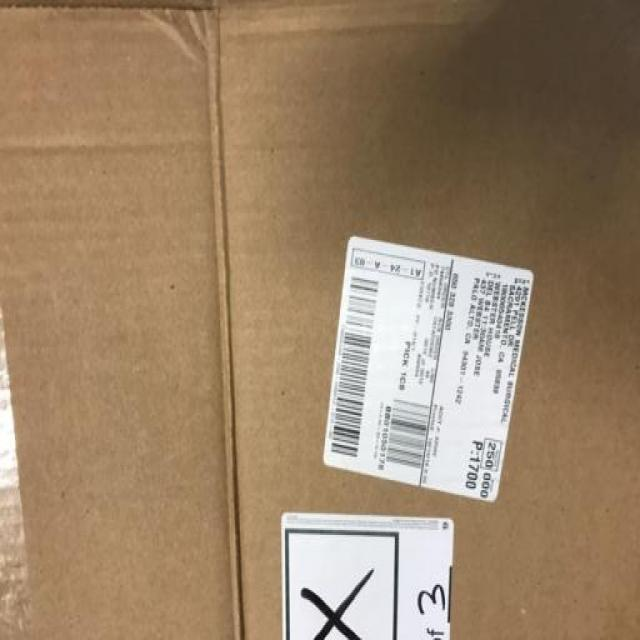PaperCardboard: (5, 5, 640, 637)
